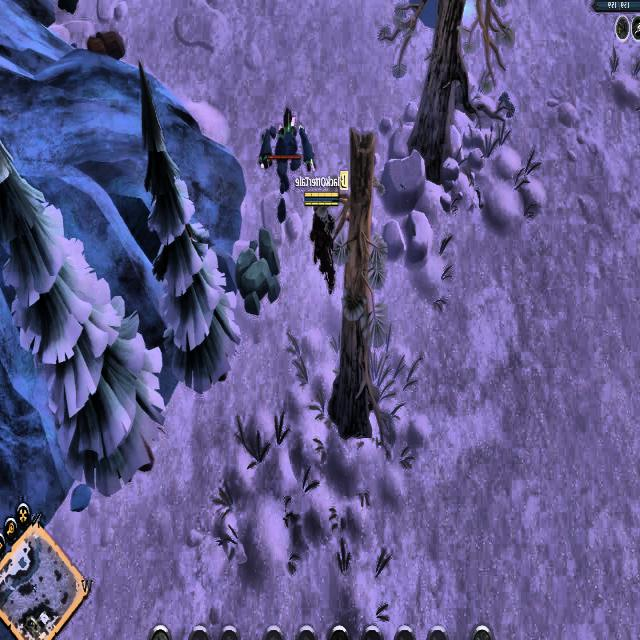copperore: (56, 0, 80, 18)
limestone: (81, 27, 130, 65)
sandstone: (233, 227, 283, 322)
